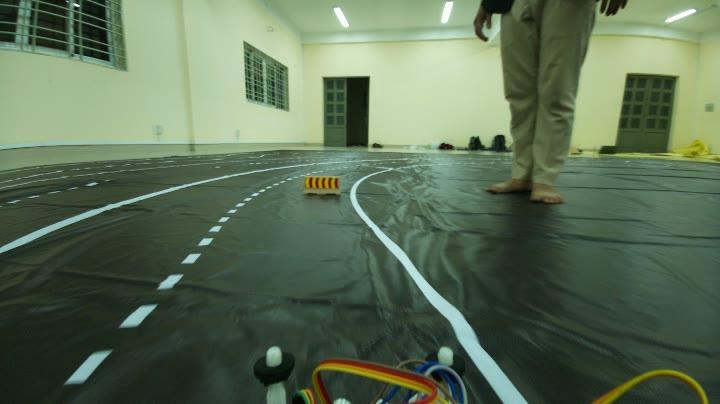roadblock: (297, 172, 351, 197)
